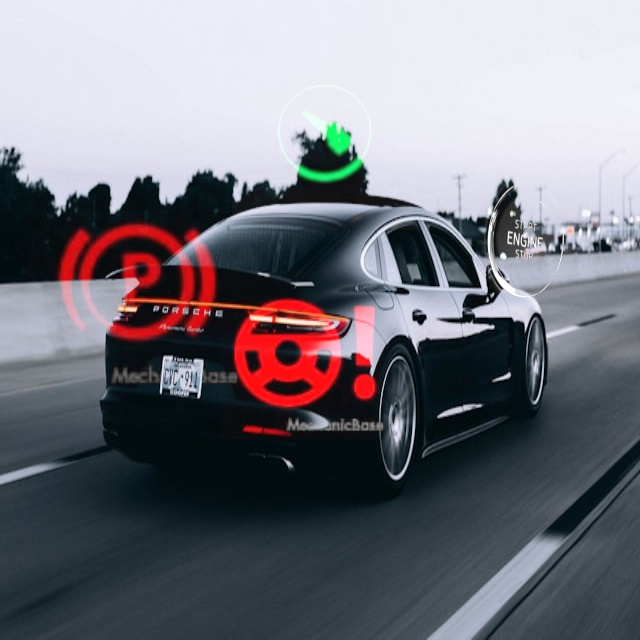symbol: (26, 174, 246, 394), (232, 36, 426, 230), (221, 270, 390, 439), (436, 168, 584, 316)
